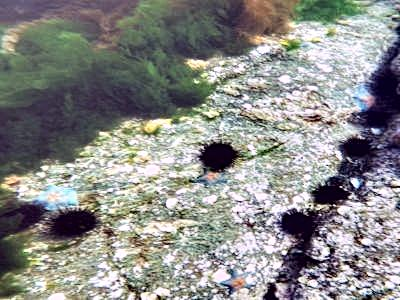urchin: (47, 204, 98, 235), (200, 139, 231, 171), (310, 183, 347, 203), (340, 138, 371, 160), (282, 209, 310, 233)
